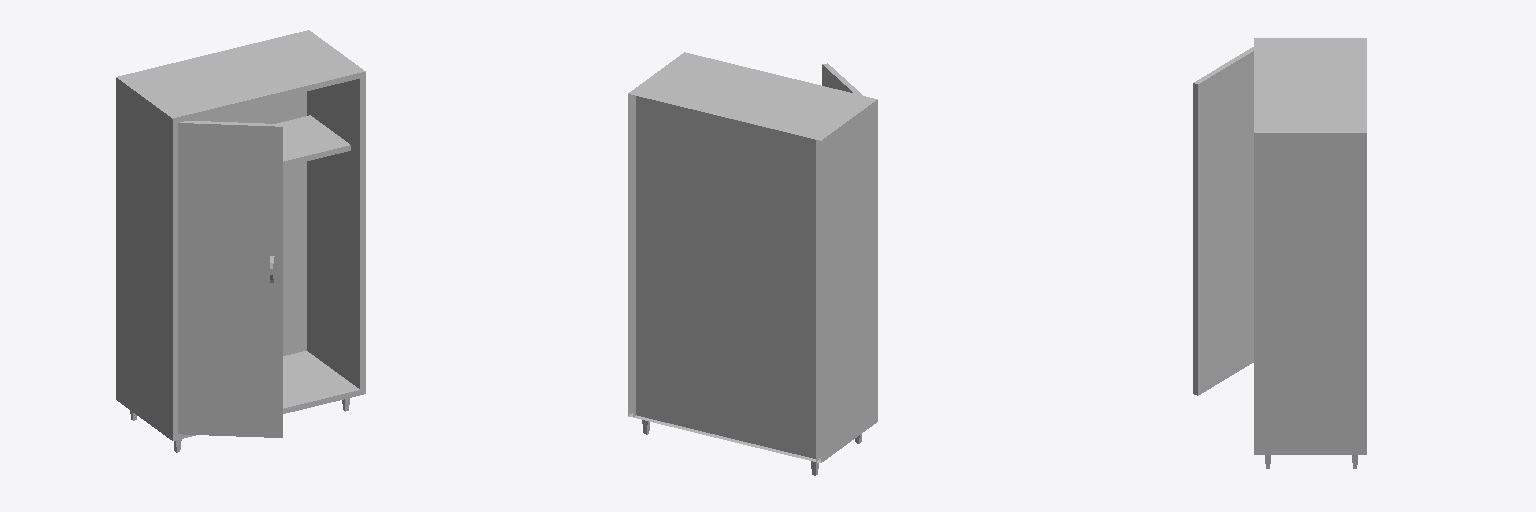
File: Closet02.obj
3 views of the same model, side by side, from view 1: azimuth 30°, elevation 25°; view 2: azimuth 150°, elevation 25°; view 3: azimuth 270°, elevation 25° (orthographic).
Visible parts, largest first — view 1: Closet02_LOD0_Closet02.001; view 2: Closet02_LOD0_Closet02.001; view 3: Closet02_LOD0_Closet02.001.
Boxes of the visible parts, x1=… form: Closet02_LOD0_Closet02.001: x1=116, y1=30, x2=365, y2=452; Closet02_LOD0_Closet02.001: x1=628, y1=52, x2=877, y2=475; Closet02_LOD0_Closet02.001: x1=1193, y1=38, x2=1366, y2=468.
Bounding box in the file's own units: 1.47 × 2.48 × 1.15.